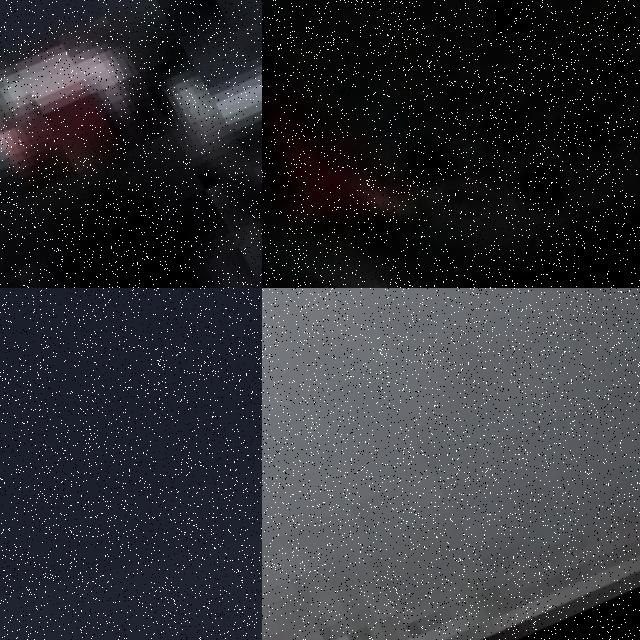drone: (262, 288, 640, 640), (262, 0, 640, 288), (0, 0, 262, 288)
